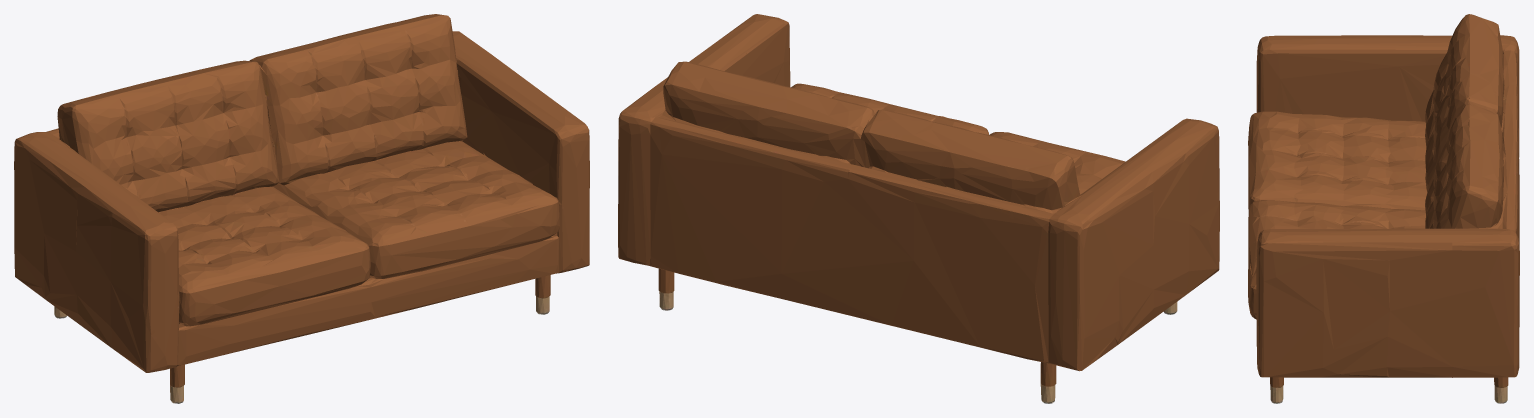
3 views of the same model, side by side, from view 1: azimuth 30°, elevation 25°; view 2: azimuth 150°, elevation 25°; view 3: azimuth 270°, elevation 25° (orthographic). The views are drawn at different scales.
Visible parts, largest first — view 1: ProcessedGeometry; view 2: ProcessedGeometry; view 3: ProcessedGeometry.
Part boxes in pixels (x1=…): ProcessedGeometry: x1=14, y1=14, x2=589, y2=403; ProcessedGeometry: x1=618, y1=14, x2=1219, y2=403; ProcessedGeometry: x1=1248, y1=14, x2=1519, y2=403.
Size of the model in its own units: 1.64 by 0.78 by 0.89.
Materials: 1 (1 with a texture image).
